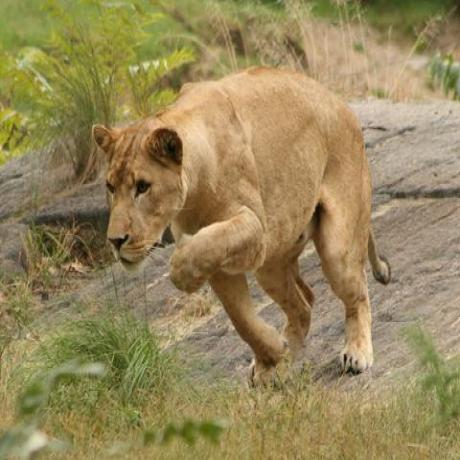Lion: (93, 64, 387, 376)
